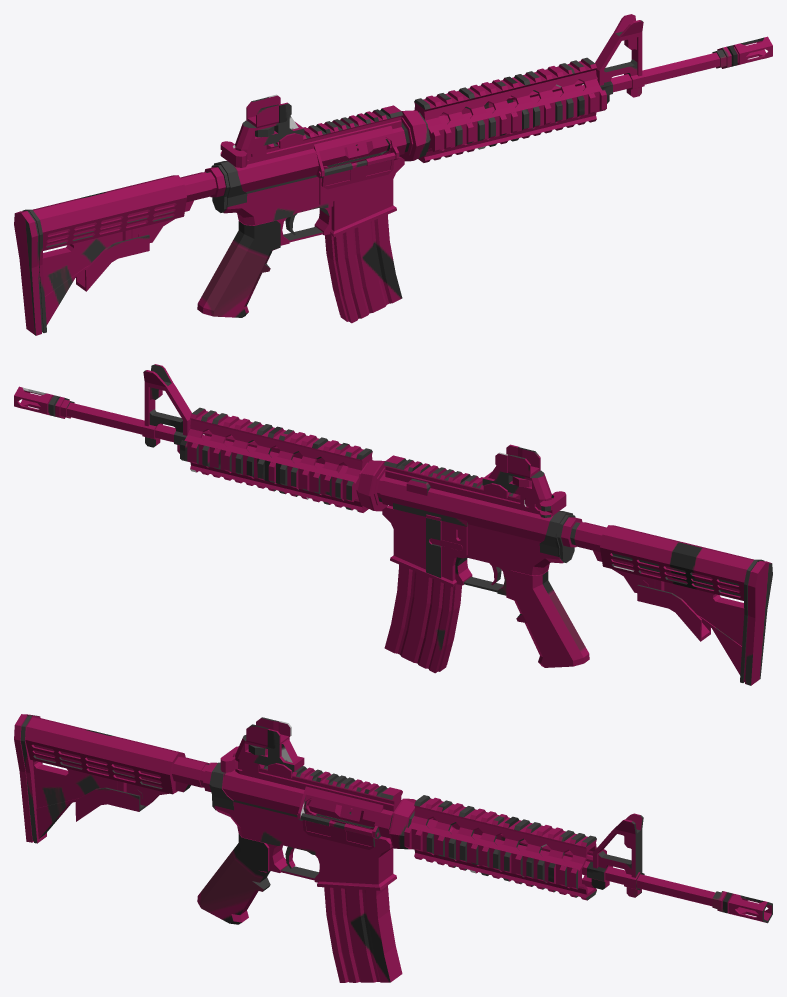
The model's file is Gun.fbx.
3 views of the same model, one above another, from view 1: azimuth 30°, elevation 25°; view 2: azimuth 150°, elevation 25°; view 3: azimuth 330°, elevation 25° (orthographic).
Visible parts, largest first — view 1: Gun; view 2: Gun; view 3: Gun.
Boxes of the visible parts, bbox=[...] form: Gun: bbox=[14, 14, 772, 335]; Gun: bbox=[14, 364, 772, 685]; Gun: bbox=[14, 714, 772, 982].
Size of the model in its own units: 845 by 255 by 60.51.
